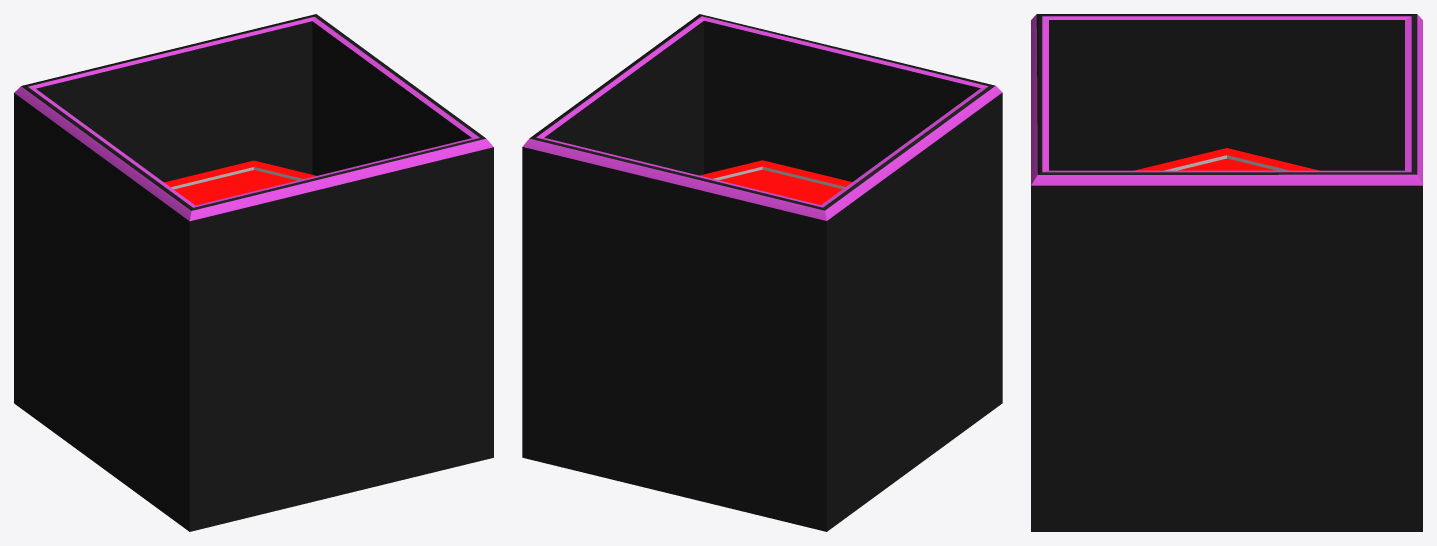
File: Botão_Parada_R00.fbx
The picture shows the model from 3 angles, left to right: view 1: azimuth 30°, elevation 25°; view 2: azimuth 150°, elevation 25°; view 3: azimuth 270°, elevation 25°; orthographic projection. The views are drawn at different scales.
Parts seen in each view (by area): view 1: pCube1, pCylinder2; view 2: pCube1, pCylinder2; view 3: pCube1, pCylinder2.
Part boxes in pixels (x1=…): pCube1: x1=14, y1=14, x2=493, y2=531; pCylinder2: x1=164, y1=160, x2=316, y2=205; pCube1: x1=522, y1=14, x2=1002, y2=531; pCylinder2: x1=700, y1=160, x2=852, y2=204; pCube1: x1=1031, y1=14, x2=1422, y2=531; pCylinder2: x1=1135, y1=148, x2=1318, y2=170.
Size of the model in its own units: 1 by 1 by 1.
